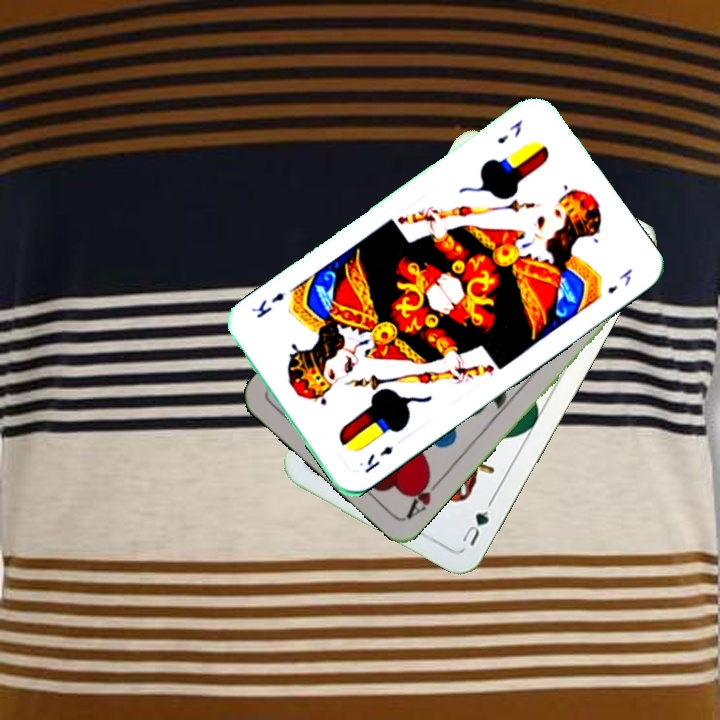EK: (361, 441, 397, 476), (493, 116, 526, 147)
GU: (457, 506, 492, 549)
HA: (402, 469, 447, 521)
